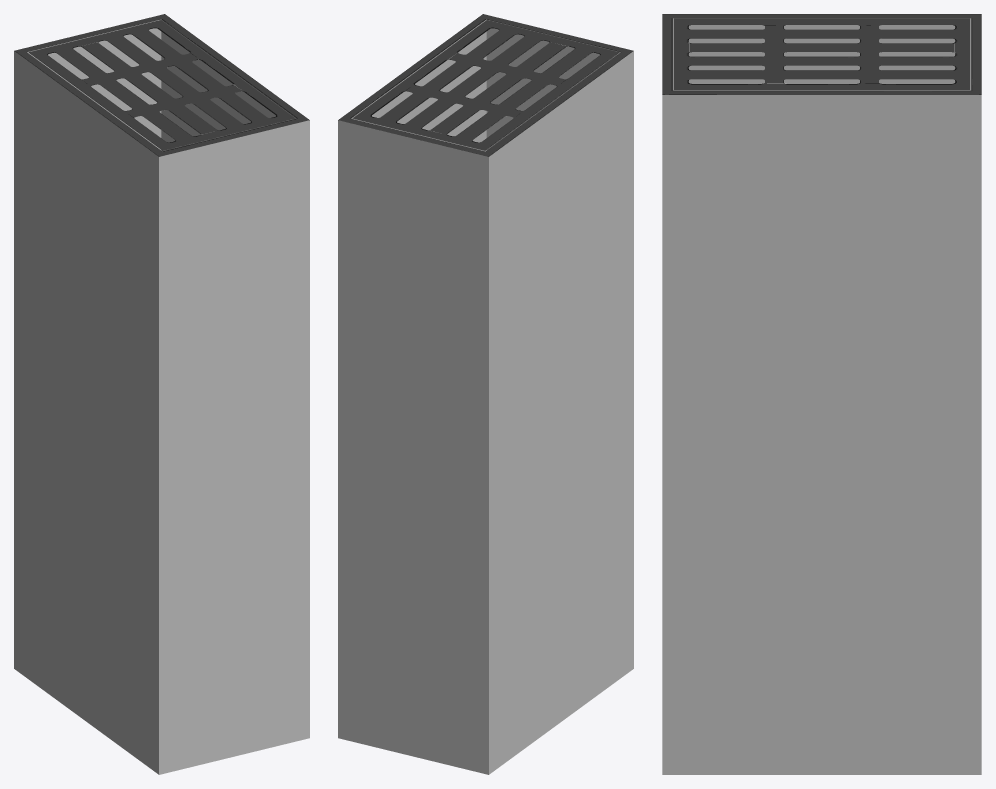
The picture shows the model from 3 angles, left to right: view 1: azimuth 30°, elevation 25°; view 2: azimuth 150°, elevation 25°; view 3: azimuth 270°, elevation 25°; orthographic projection. The views are drawn at different scales.
Parts seen in each view (by area): view 1: Mesh_0, Mesh_2; view 2: Mesh_0, Mesh_2; view 3: Mesh_0, Mesh_2.
Part boxes in pixels (x1,y1,x2,y2): Mesh_0: [14, 14, 309, 774]; Mesh_2: [29, 20, 295, 150]; Mesh_0: [338, 14, 633, 774]; Mesh_2: [352, 20, 618, 150]; Mesh_0: [662, 14, 981, 774]; Mesh_2: [674, 18, 969, 89].
Bounding box in the file's own units: 0.3 × 1.18 × 0.5.
Materials: 3 (2 with a texture image).
